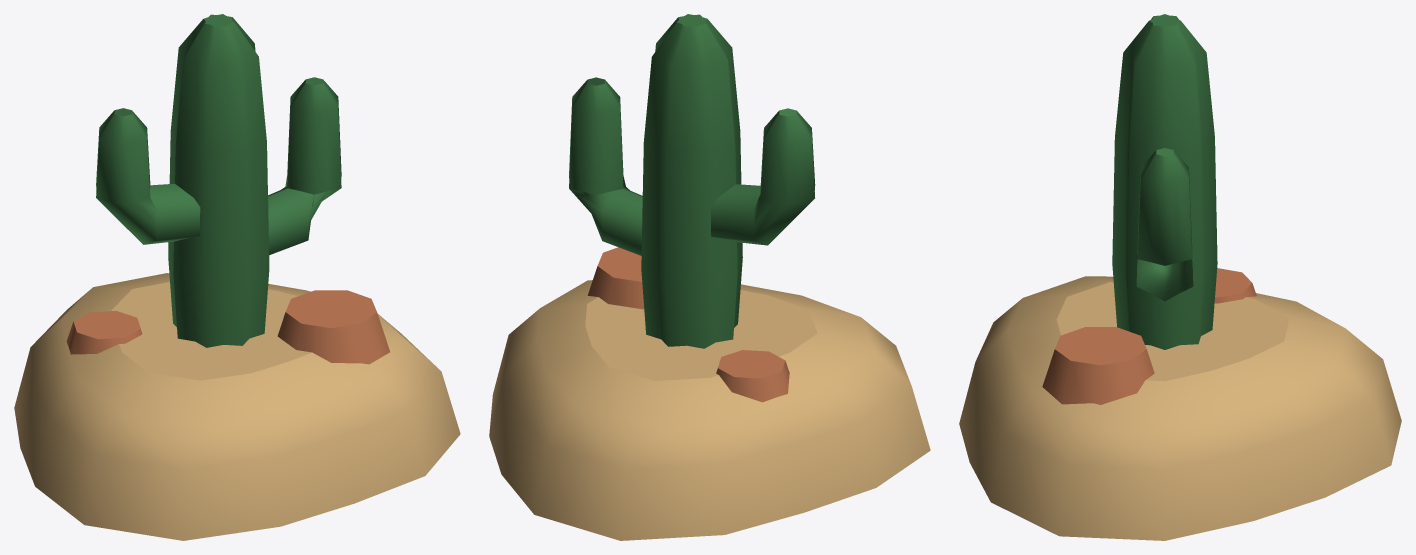
File: prop_desert_cactus.glb
The picture shows the model from 3 angles, left to right: view 1: azimuth 30°, elevation 25°; view 2: azimuth 150°, elevation 25°; view 3: azimuth 270°, elevation 25°; orthographic projection.
Parts seen in each view (by area): view 1: PropDesertCactus; view 2: PropDesertCactus; view 3: PropDesertCactus.
Part boxes in pixels (x1,y1,x2,y2): PropDesertCactus: (14,14,460,540); PropDesertCactus: (489,14,930,540); PropDesertCactus: (959,14,1401,540).
Size of the model in its own units: 0.7649 by 0.8 by 0.7589.
